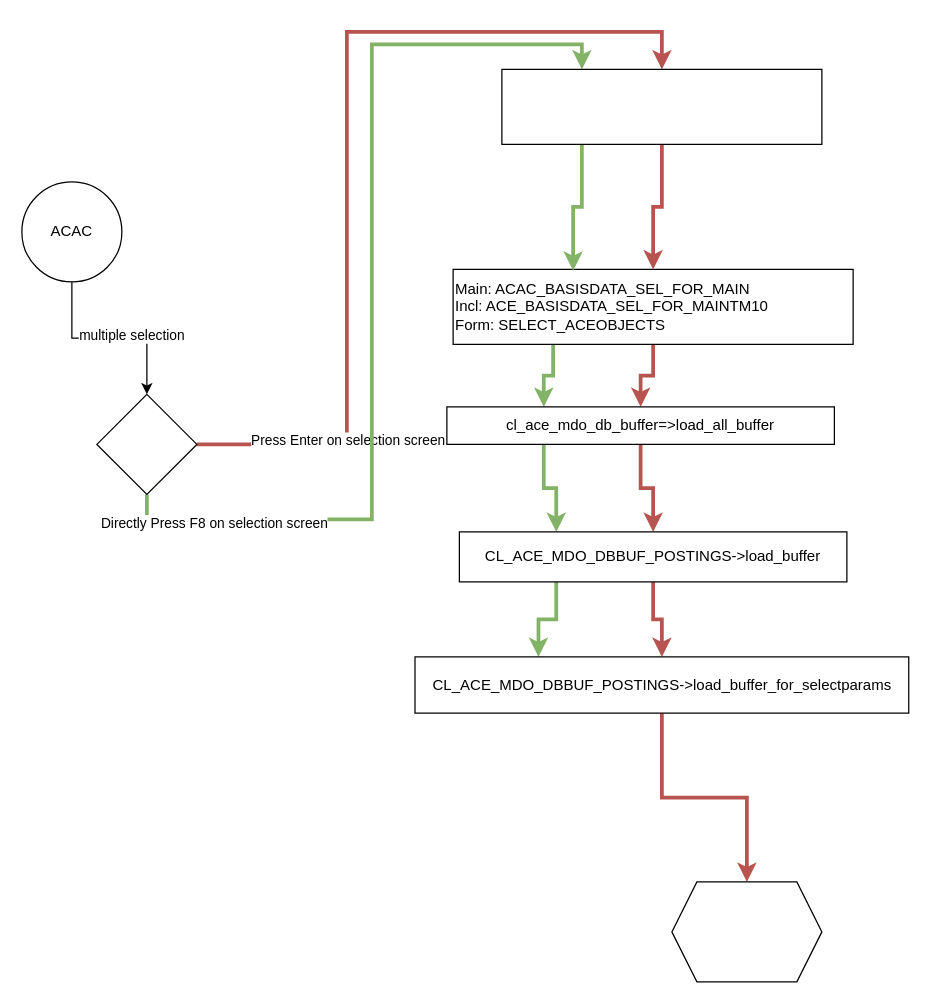
Image size: 931x1004. Some labels were removed from this diagram. Each missing label, with the centre of its shape:
"Event: Event: AT SELECTION-SCREEN" goes at (661,106).
"Tree UI displays" goes at (746,931).
